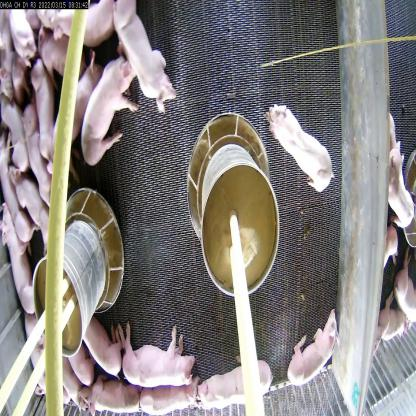Pig: (268, 78, 342, 209), (115, 312, 203, 400), (76, 59, 132, 173), (115, 1, 174, 99), (13, 105, 64, 212), (0, 194, 40, 325), (288, 306, 344, 396), (68, 313, 134, 384), (201, 352, 269, 413), (34, 36, 61, 171), (6, 176, 55, 250), (127, 371, 203, 415), (89, 382, 154, 416)
